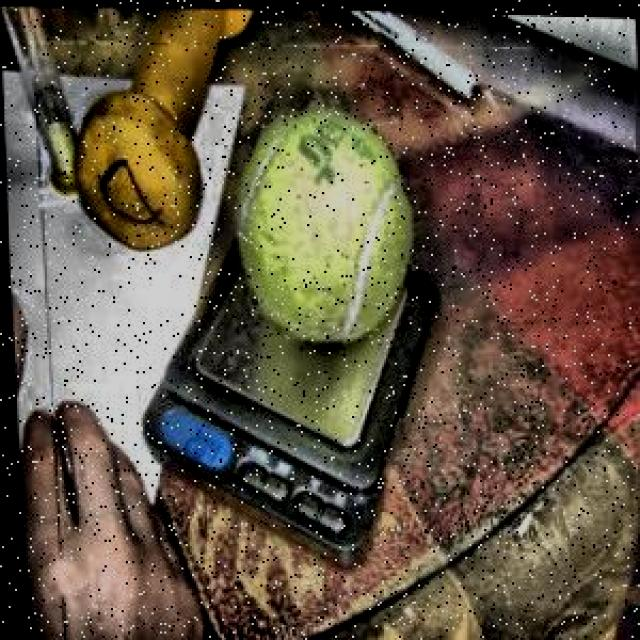tennis-ball: (219, 88, 419, 348)
